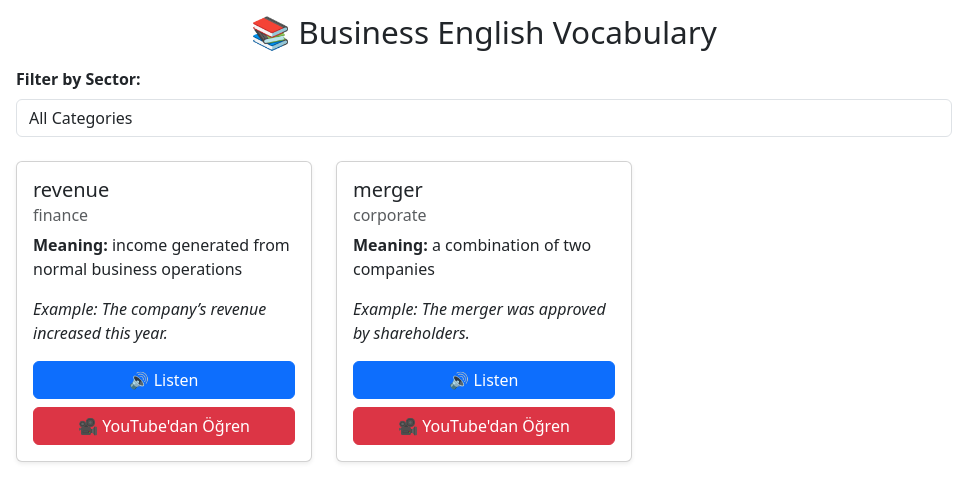
Test: BusinessEnglish Component › renders nothing when no entries match the selected category
Select "marketing" in the dropdown labelled "Filter by Sector:" at (484, 118), box top-left (16, 99), bottom-right (952, 137)
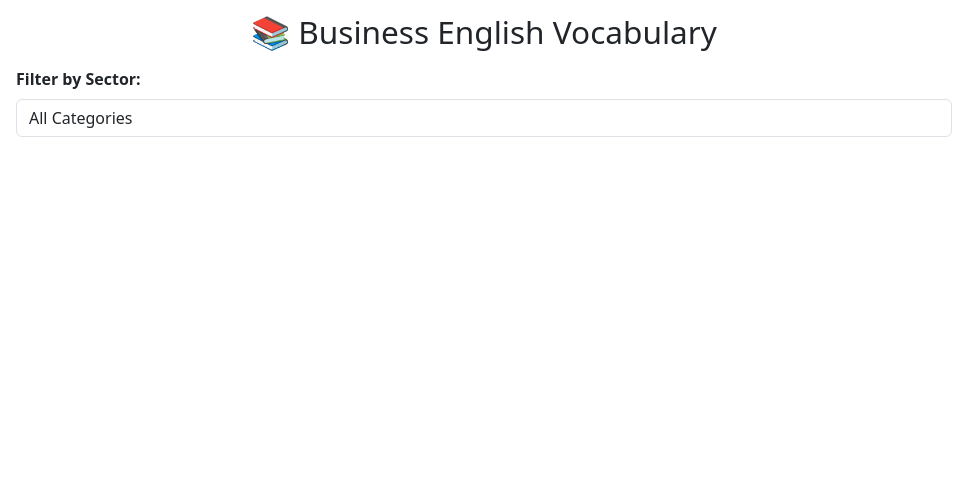
Check: the text "revenue" is gone
Check: the text "merger" is gone
